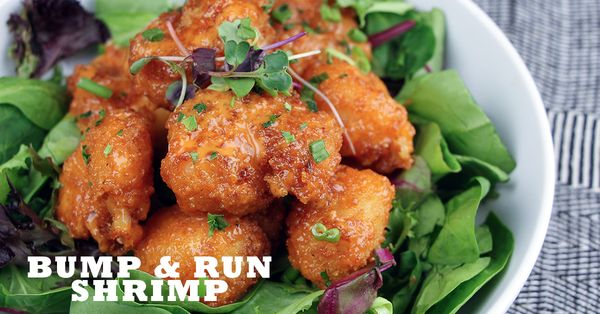curry: (14, 0, 574, 312)
